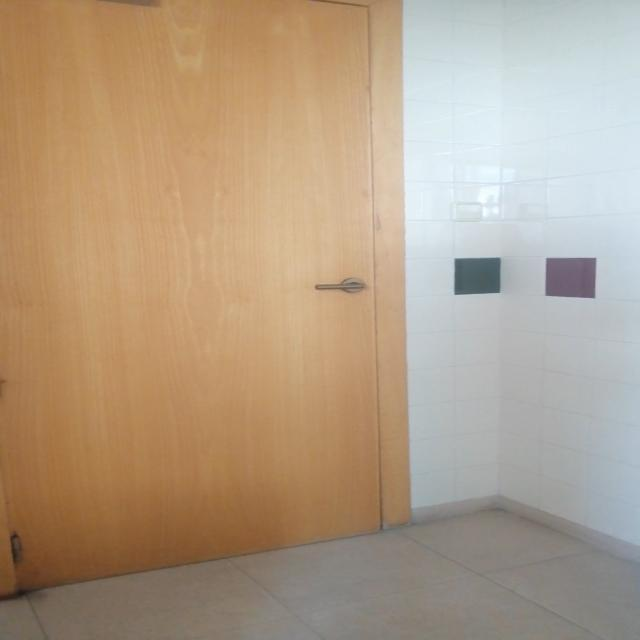door_handle: (312, 282, 370, 291)
